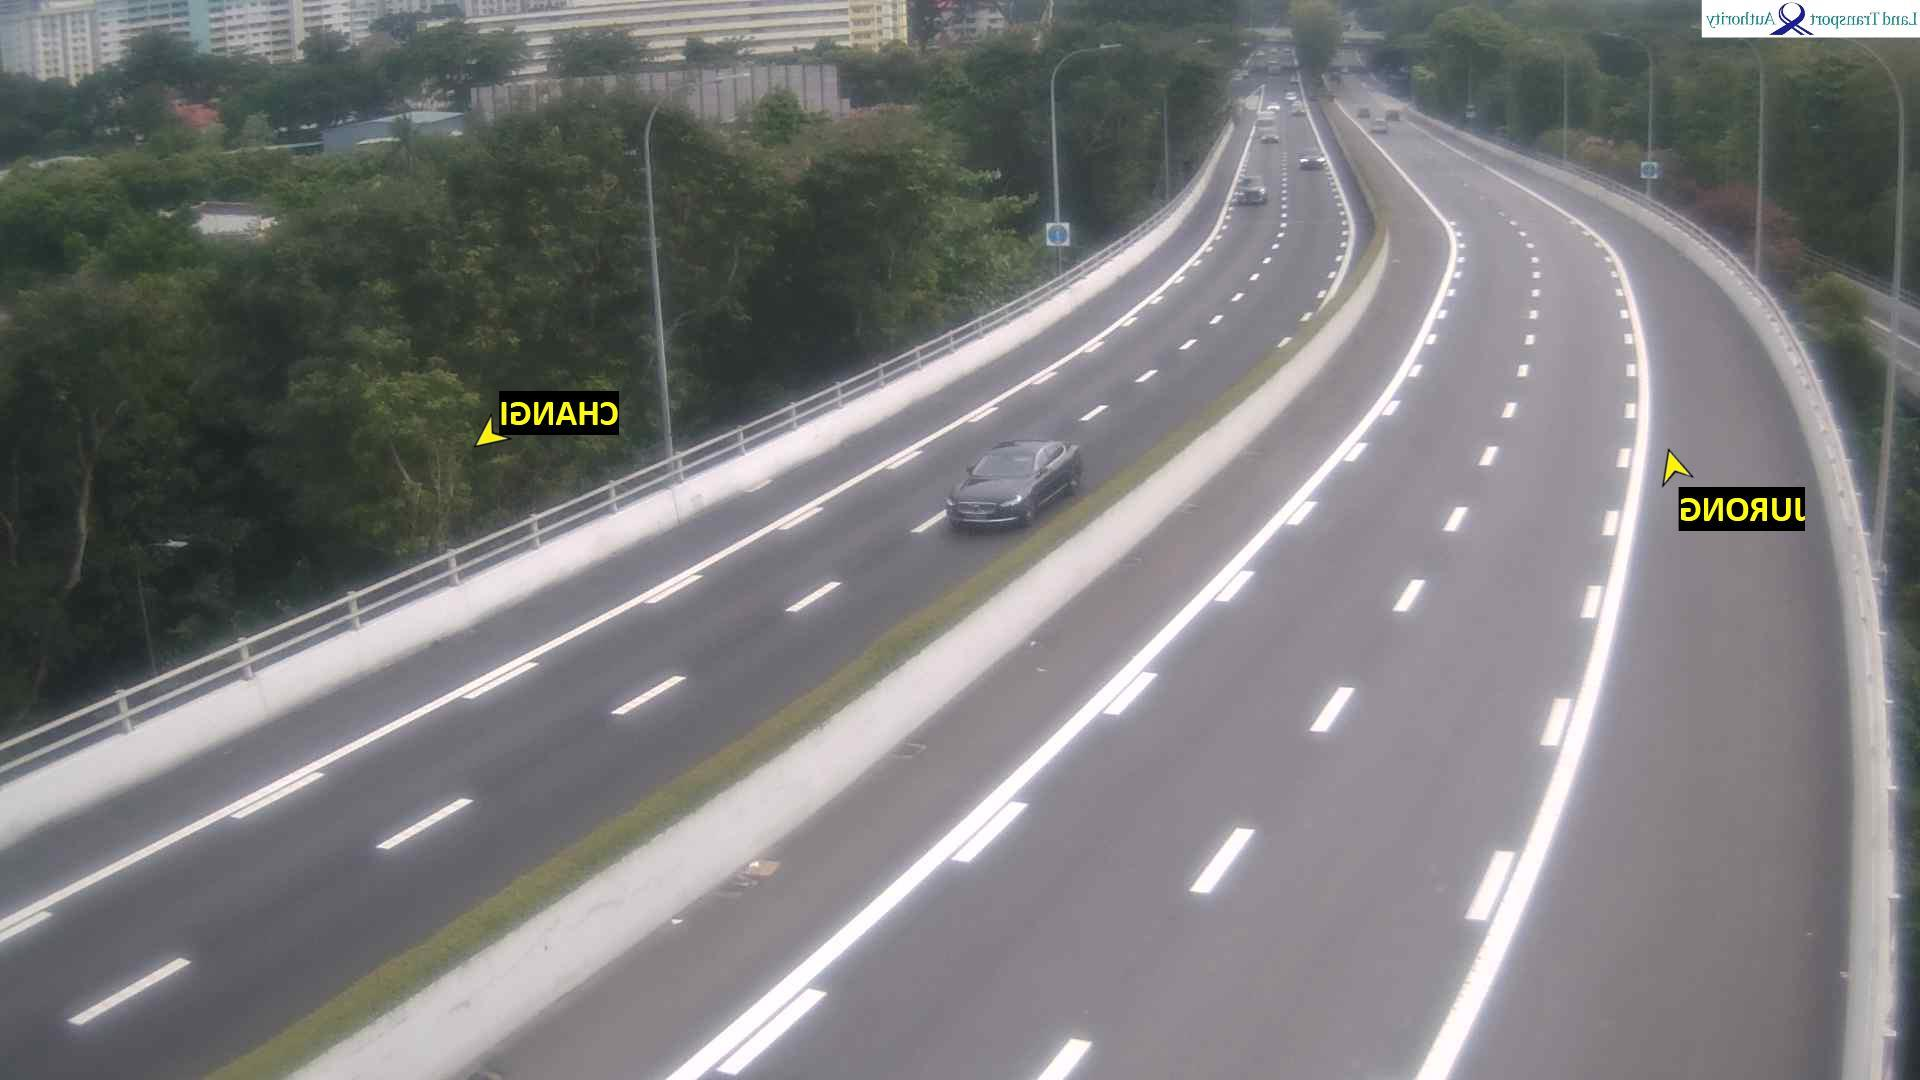incoming: (943, 447, 1048, 531), (1233, 177, 1269, 207), (1299, 148, 1329, 170)
